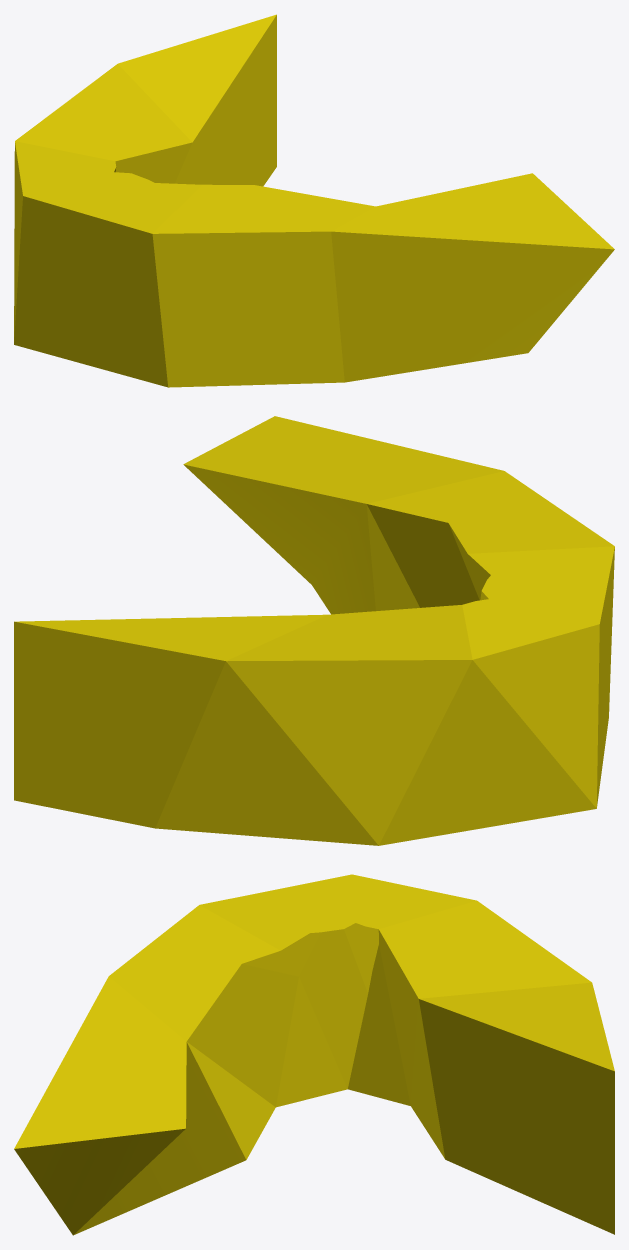
The model's file is archrock2.fbx.
3 renders of one model, top to bottom at view 1: azimuth 30°, elevation 25°; view 2: azimuth 150°, elevation 25°; view 3: azimuth 270°, elevation 25°, orthographic. The views are drawn at different scales.
Parts seen in each view (by area): view 1: Circle; view 2: Circle; view 3: Circle.
Part boxes in pixels (x1,y1,x2,y2): Circle: (14, 14, 614, 387); Circle: (14, 416, 614, 845); Circle: (14, 874, 614, 1235).
Bounding box in the file's own units: 2203 × 761 × 2443.
